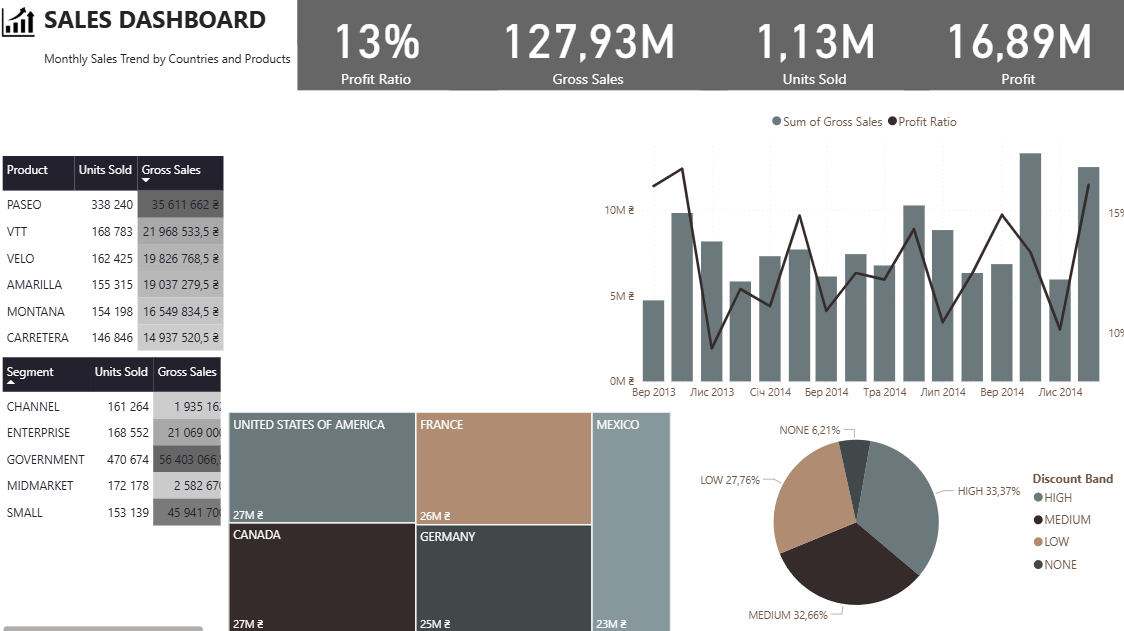

The page's visual inventory and layout, read from the dashboard file:
{"tool":"powerbi","page":{"name":"Page 1","canvas":[1280,720],"ordinal":0},"visuals":[{"type":"lineStackedColumnComboChart","fields":{"Category":["Calendar.Date"],"Y":["Sum(financials.Gross Sales)"],"Y2":["calc.Profit Ratio"]},"box":[679.2,118,601,344.4],"z":0},{"type":"card","fields":{"Values":["Sum(financials.Gross Sales)"]},"box":[510,0,312.9,104.3],"z":1000},{"type":"card","fields":{"Values":["Sum(financials.Units Sold)"]},"box":[792.9,0,257.1,104.3],"z":2000},{"type":"card","fields":{"Values":["Sum(financials.Profit)"]},"box":[1022.9,0,257.1,104.3],"z":3000},{"type":"card","fields":{"Values":["calc.Profit Ratio"]},"box":[291.4,0,271.4,104.3],"z":4000},{"type":"tableEx","fields":{"Values":["financials.Product","Sum(financials.Units Sold)","Sum(financials.Gross Sales)"]},"box":[0,172.9,363.6,321.1],"z":5000},{"type":"tableEx","fields":{"Values":["financials.Segment","Sum(financials.Units Sold)","Sum(financials.Gross Sales)"]},"box":[0,399.3,256.6,321.1],"z":6000},{"type":"treemap","fields":{"Group":["financials.Country"],"Values":["Sum(financials.Gross Sales)"]},"box":[256.6,462.4,507.7,258],"z":7000},{"type":"pieChart","fields":{"Y":["Sum(financials.Gross Sales)"],"Category":["financials.Discount Band"]},"box":[765,462,515,258],"z":8000},{"type":"textbox","box":[48.6,0,290,131.4],"z":9000},{"type":"textbox","box":[48.6,52.9,290,51.4],"z":10000},{"type":"image","box":[0,1.4,48.6,51.4],"z":11000}]}

Visuals, with their boxes in screenshot pixels (x1, y1, x2, y2), scaled from the page's 1280x720 canvas onto the 1124x631 screenshot:
lineStackedColumnComboChart - Calendar.Date x Sum(financials.Gross Sales): crop(596, 103, 1123, 405)
card - Sum(financials.Gross Sales): crop(448, 0, 723, 91)
card - Sum(financials.Units Sold): crop(696, 0, 922, 91)
card - Sum(financials.Profit): crop(898, 0, 1123, 91)
card - calc.Profit Ratio: crop(256, 0, 494, 91)
tableEx - financials.Product x Sum(financials.Units Sold): crop(0, 152, 319, 433)
tableEx - financials.Segment x Sum(financials.Units Sold): crop(0, 350, 225, 630)
treemap - financials.Country x Sum(financials.Gross Sales): crop(225, 405, 671, 630)
pieChart - Sum(financials.Gross Sales) x financials.Discount Band: crop(672, 405, 1123, 630)
textbox: crop(43, 0, 297, 115)
textbox: crop(43, 46, 297, 91)
image: crop(0, 1, 43, 46)
